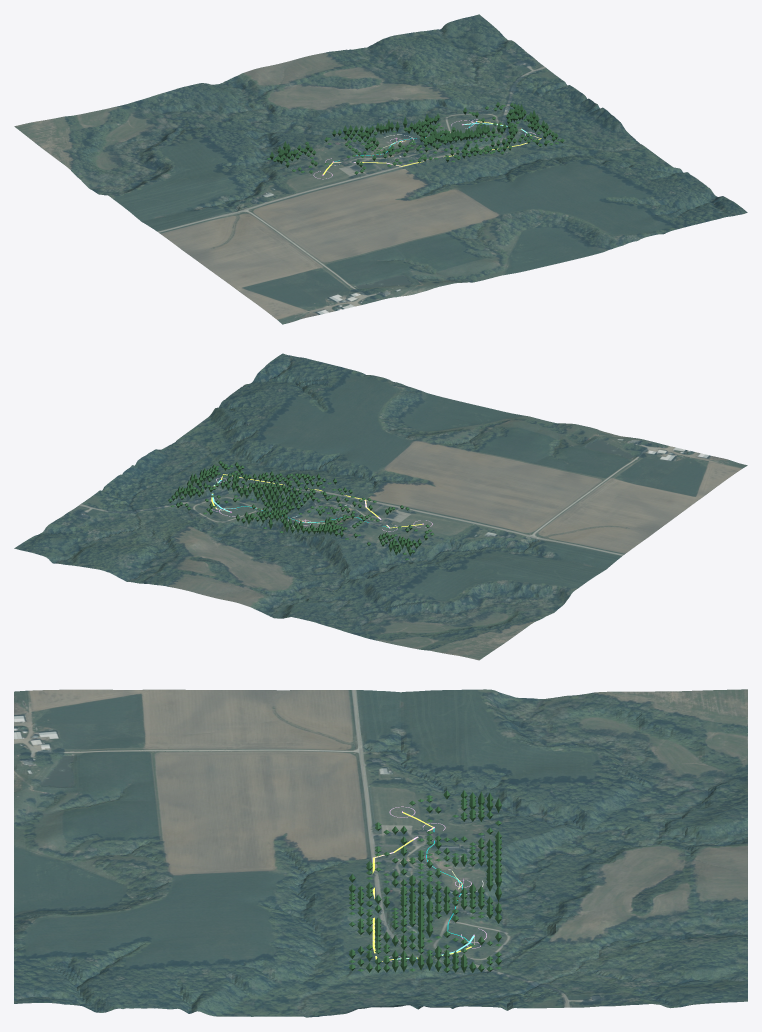
Rendered from flow-fest-sim-gate2-graybox.glb.
3 views of the same model, one above another, from view 1: azimuth 30°, elevation 25°; view 2: azimuth 150°, elevation 25°; view 3: azimuth 270°, elevation 25° (orthographic). The views are drawn at different scales.
Visible parts, largest first — view 1: FFS_Terrain, FFS_Anchor_LidarCanopyProxy; view 2: FFS_Terrain, FFS_Anchor_LidarCanopyProxy; view 3: FFS_Terrain, FFS_Anchor_LidarCanopyProxy.
Part boxes in pixels (box(x1,y1,x2,y2)): FFS_Terrain: box(14, 14, 747, 324); FFS_Anchor_LidarCanopyProxy: box(267, 102, 564, 174); FFS_Terrain: box(14, 353, 747, 660); FFS_Anchor_LidarCanopyProxy: box(168, 460, 434, 560); FFS_Terrain: box(14, 689, 747, 1017); FFS_Anchor_LidarCanopyProxy: box(349, 790, 501, 972).
Bounding box in the file's own units: 1024 × 47.51 × 1024.
Materials: 10 (1 with a texture image).
